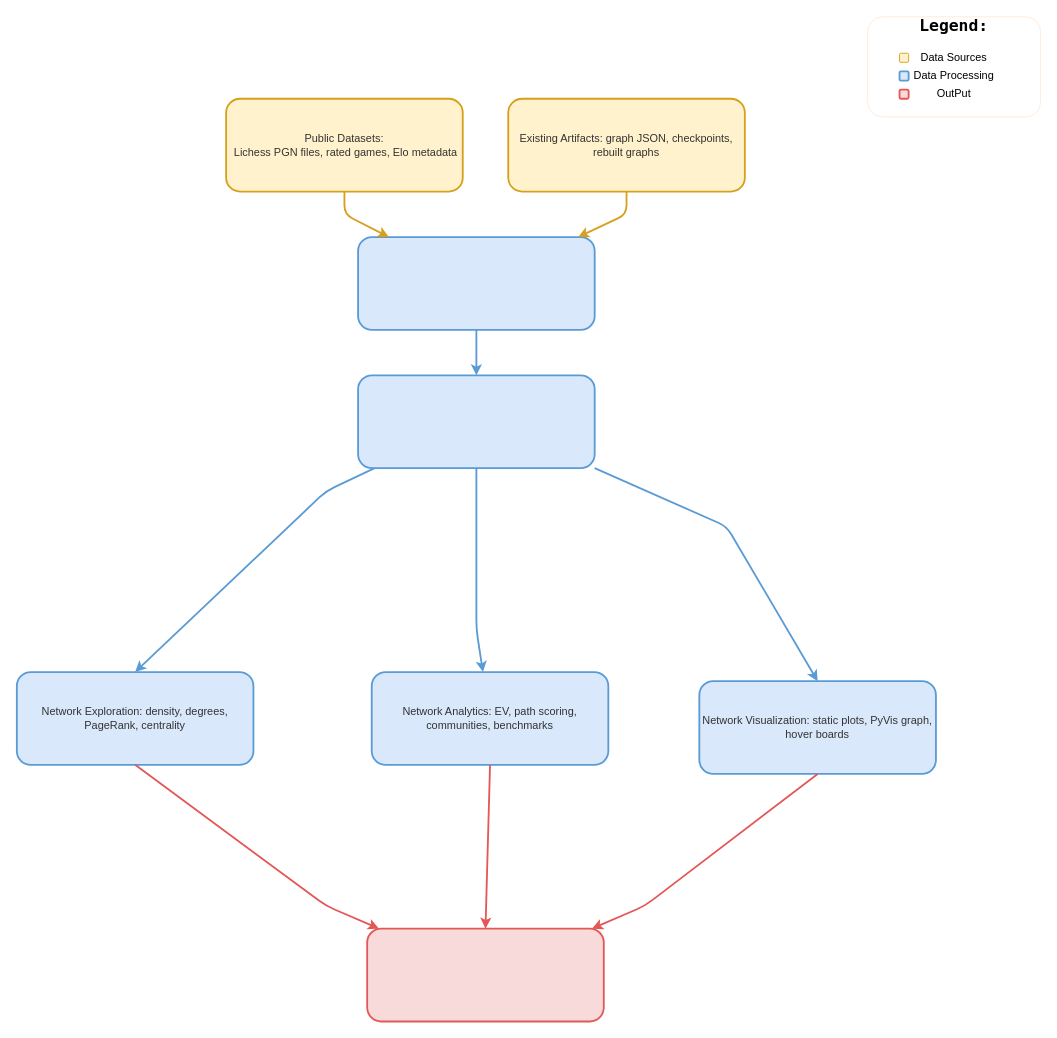
This 1057x1038 diagram has some shape labels left out. The shapes that lost their labels are listed below. From the top down, each one's centre as x and y in pixels, then its label:
(x=476, y=283): Network Loading: parse PGN, filter games, create FEN and Zobrist hashes
(x=476, y=421): Data Management: schema, pruning, persistence
(x=485, y=974): Insights and Analysis: patterns, communities, paths, benchmarks
